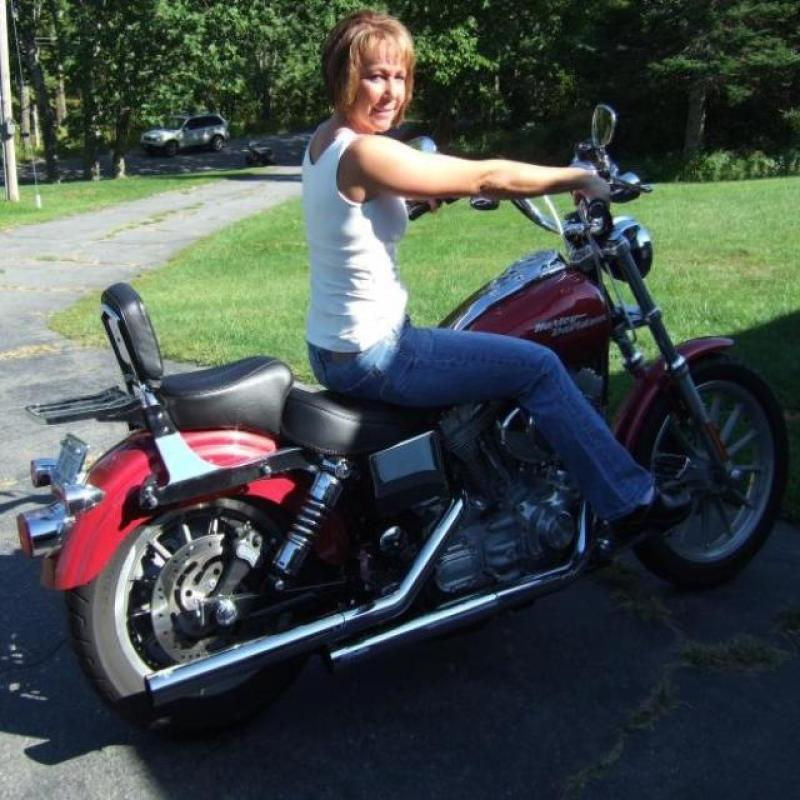nohelmet: (318, 8, 423, 140)
